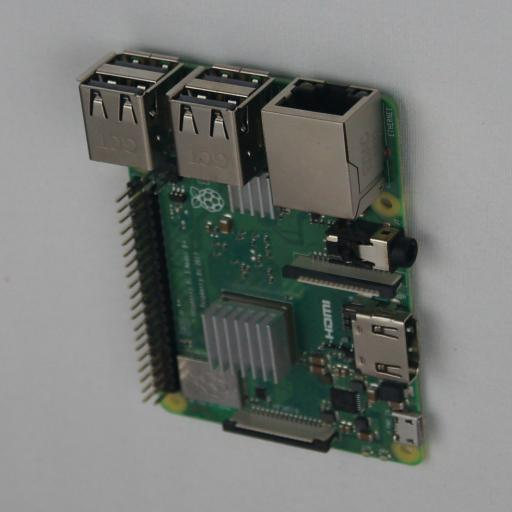Raspberry Pi 3 B-: (79, 48, 432, 465)
